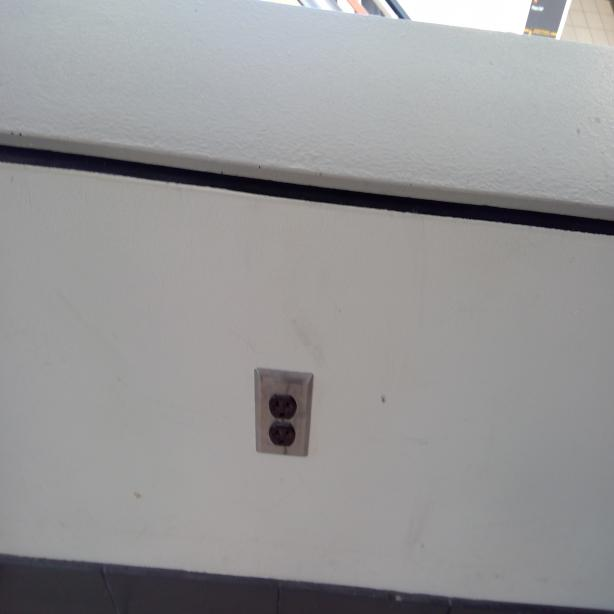typeb: (268, 424, 296, 452), (270, 395, 296, 420)
